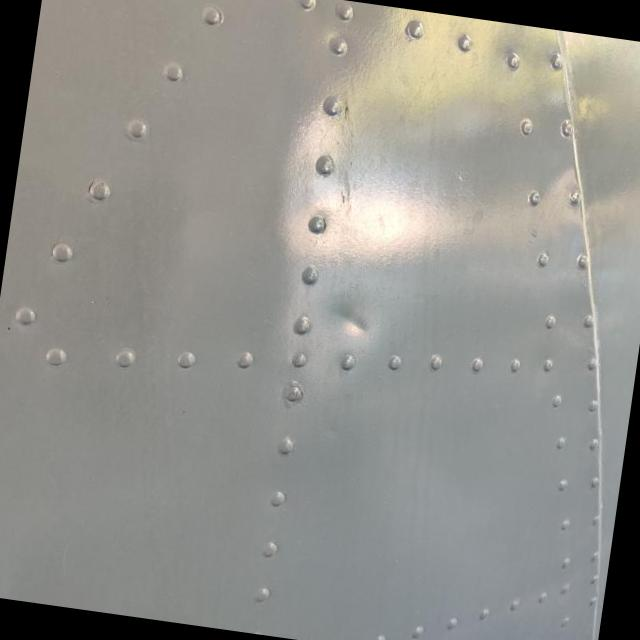Dent: (312, 283, 389, 373)
